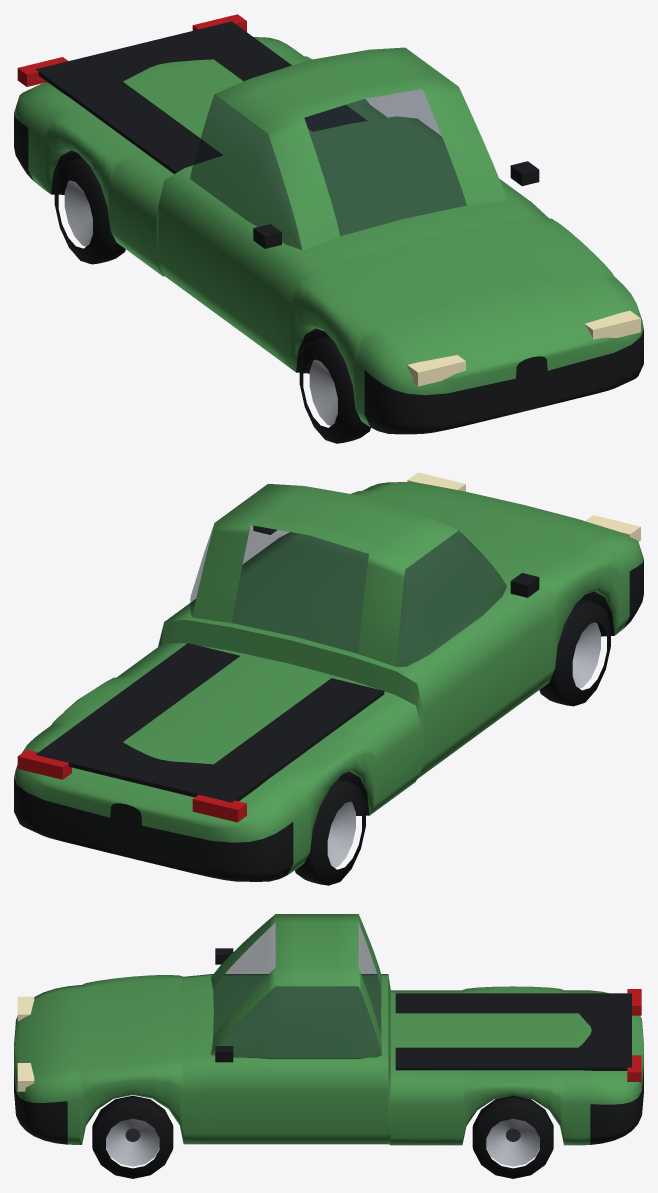
File: mobile.glb
The picture shows the model from 3 angles, top to bottom: view 1: azimuth 30°, elevation 25°; view 2: azimuth 150°, elevation 25°; view 3: azimuth 270°, elevation 25°; orthographic projection. The views are drawn at different scales.
Visible parts, largest first — view 1: body, glass, tyre_fr, tyre_rr, rim_fr, rim_rr, light_head_r, light_head_l, light_brake_r; view 2: body, glass, tyre_fr, tyre_rr, rim_fr, rim_rr, light_brake_r, light_brake_l, light_head_r; view 3: body, glass, tyre_fl, tyre_rl, rim_rl, rim_fl, light_head_l.
Boxes of the visible parts, x1=… form: body: x1=14, y1=21, x2=643, y2=434; glass: x1=190, y1=89, x2=466, y2=249; tyre_fr: x1=299, y1=336, x2=370, y2=443; tyre_rr: x1=54, y1=157, x2=125, y2=264; rim_fr: x1=309, y1=359, x2=337, y2=425; rim_rr: x1=64, y1=180, x2=92, y2=246; light_head_r: x1=407, y1=355, x2=465, y2=386; light_head_l: x1=585, y1=310, x2=640, y2=339; light_brake_r: x1=17, y1=57, x2=68, y2=86; body: x1=14, y1=482, x2=643, y2=881; glass: x1=190, y1=525, x2=506, y2=667; tyre_fr: x1=539, y1=599, x2=610, y2=706; tyre_rr: x1=295, y1=779, x2=365, y2=885; rim_fr: x1=572, y1=622, x2=600, y2=688; rim_rr: x1=327, y1=801, x2=355, y2=867; light_brake_r: x1=192, y1=794, x2=246, y2=822; light_brake_l: x1=17, y1=749, x2=71, y2=779; light_head_r: x1=585, y1=515, x2=640, y2=541; body: x1=14, y1=914, x2=643, y2=1145; glass: x1=211, y1=923, x2=381, y2=1057; tyre_fl: x1=92, y1=1095, x2=173, y2=1178; tyre_rl: x1=472, y1=1095, x2=553, y2=1178; rim_rl: x1=486, y1=1118, x2=539, y2=1166; rim_fl: x1=106, y1=1118, x2=159, y2=1166; light_head_l: x1=17, y1=1063, x2=34, y2=1091.
Size of what is drawn, in the model's own units: 2.07 by 1.75 by 5.3.
